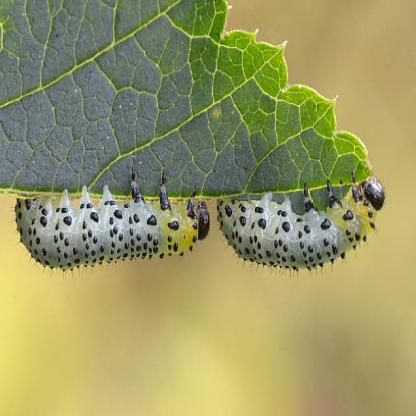sawfly: (8, 171, 214, 270), (212, 167, 388, 276)
